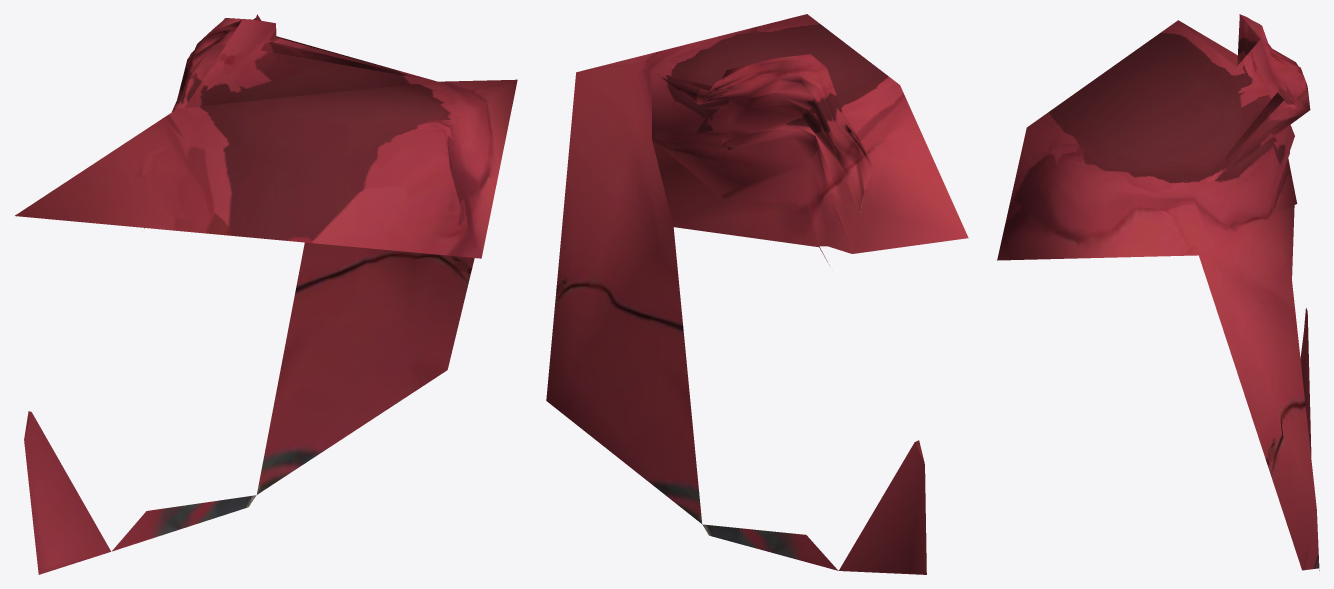
The model's file is 035-hood.glb.
3 views of the same model, side by side, from view 1: azimuth 30°, elevation 25°; view 2: azimuth 150°, elevation 25°; view 3: azimuth 270°, elevation 25° (orthographic). The views are drawn at different scales.
Visible parts, largest first — view 1: geometry_0; view 2: geometry_0; view 3: geometry_0.
Boxes of the visible parts, <box> form: geometry_0: <box>15,14,517,574</box>; geometry_0: <box>546,14,968,574</box>; geometry_0: <box>997,14,1319,570</box>.
Bounding box in the file's own units: 0.3503 × 0.3788 × 0.208.
Materials: 1 (1 with a texture image).
